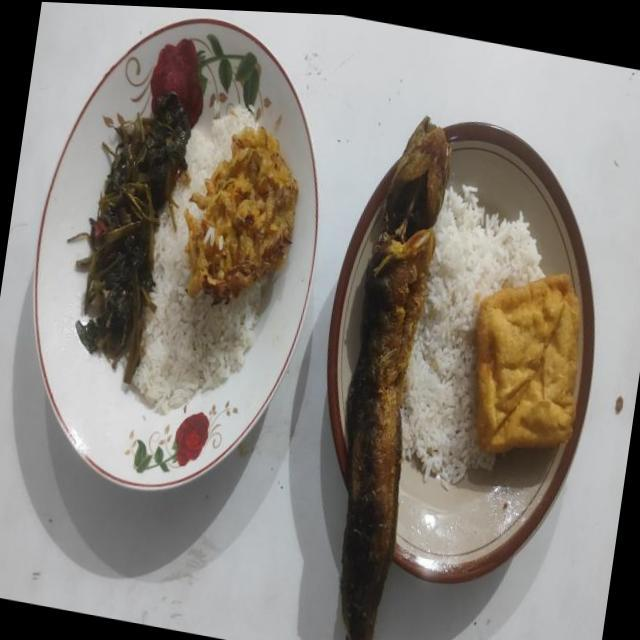nasi_putih: (401, 185, 544, 490), (132, 108, 269, 415)
tahu_goreng: (477, 274, 580, 452)
tumis_kangkung: (70, 92, 190, 384)
